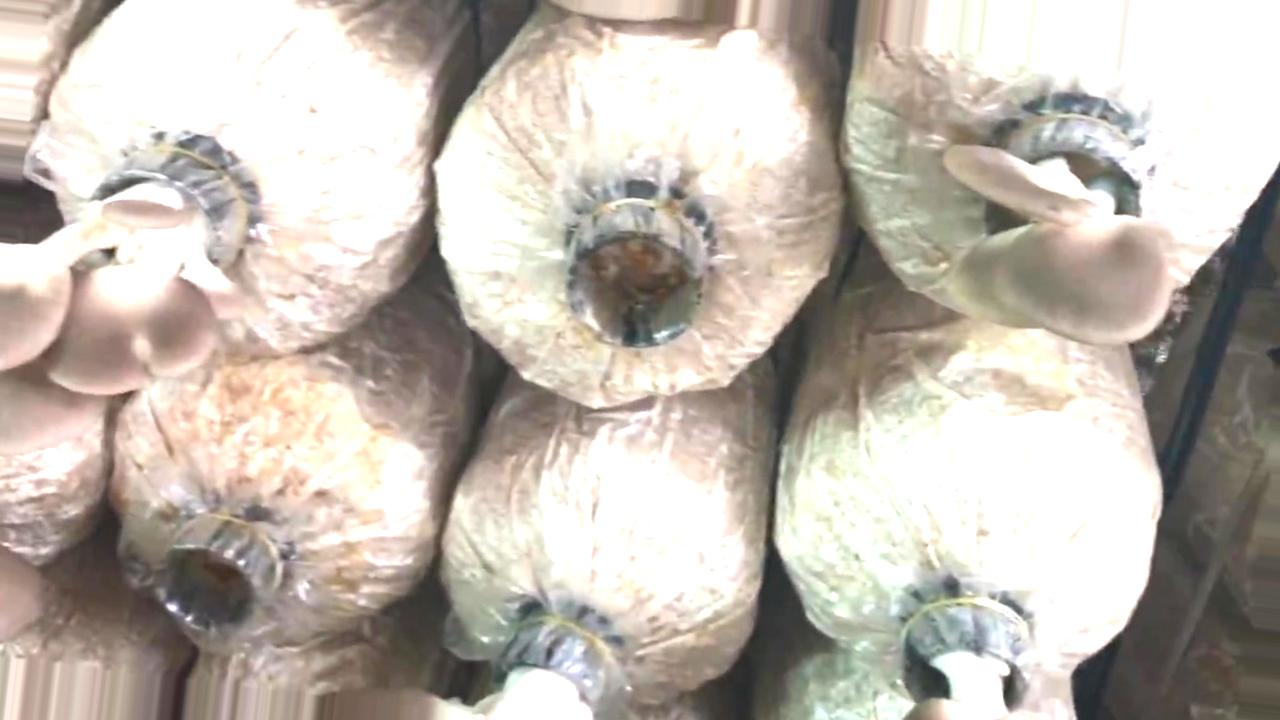nam: (1, 132, 248, 392), (942, 98, 1173, 349)
